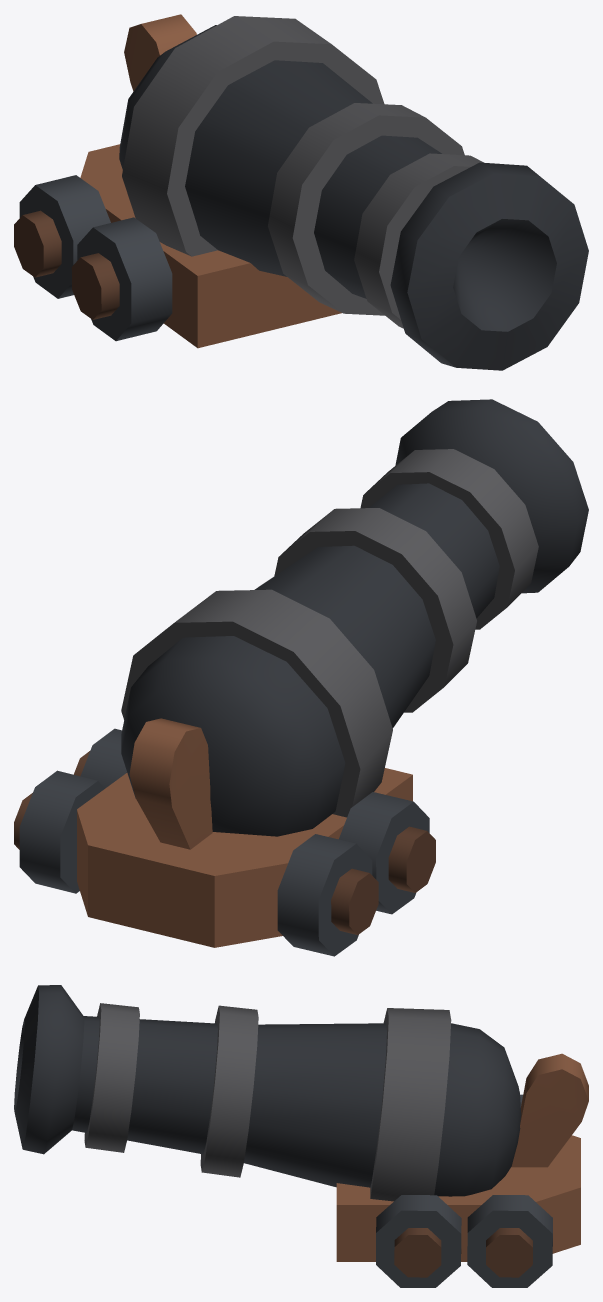
Rendered from Cannon_05.fbx.
The picture shows the model from 3 angles, top to bottom: view 1: azimuth 30°, elevation 25°; view 2: azimuth 150°, elevation 25°; view 3: azimuth 270°, elevation 25°; orthographic projection. The views are drawn at different scales.
Parts seen in each view (by area): view 1: Cannon_05; view 2: Cannon_05; view 3: Cannon_05.
Boxes of the visible parts, bbox=[...] form: Cannon_05: bbox=[14, 14, 588, 370]; Cannon_05: bbox=[14, 399, 588, 956]; Cannon_05: bbox=[14, 985, 588, 1287].
Bounding box in the file's own units: 95.01 × 80.39 × 177.
